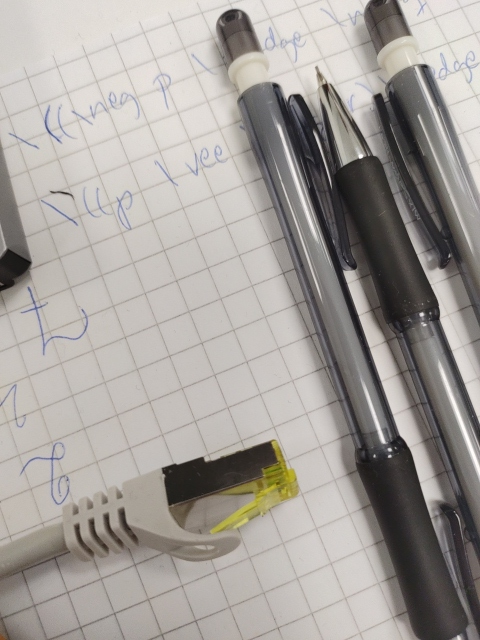Ethernet: (156, 439, 300, 541)
